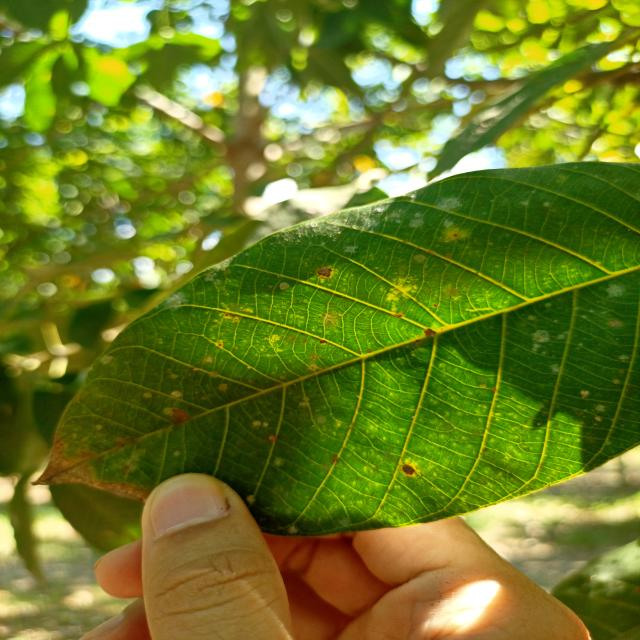Colletotrichum: (402, 464, 415, 475)
